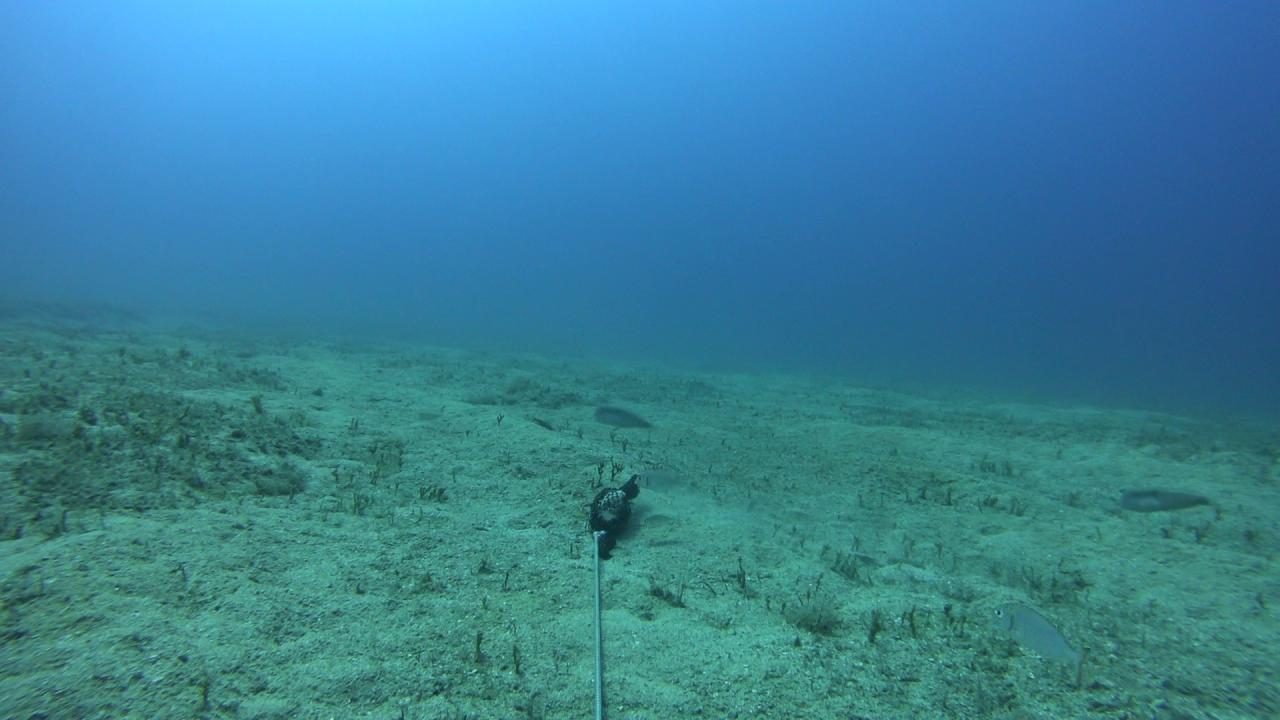pagellus: (991, 601, 1091, 689), (635, 471, 686, 490), (641, 512, 677, 529)
raor: (1115, 483, 1219, 517), (592, 403, 656, 430)
